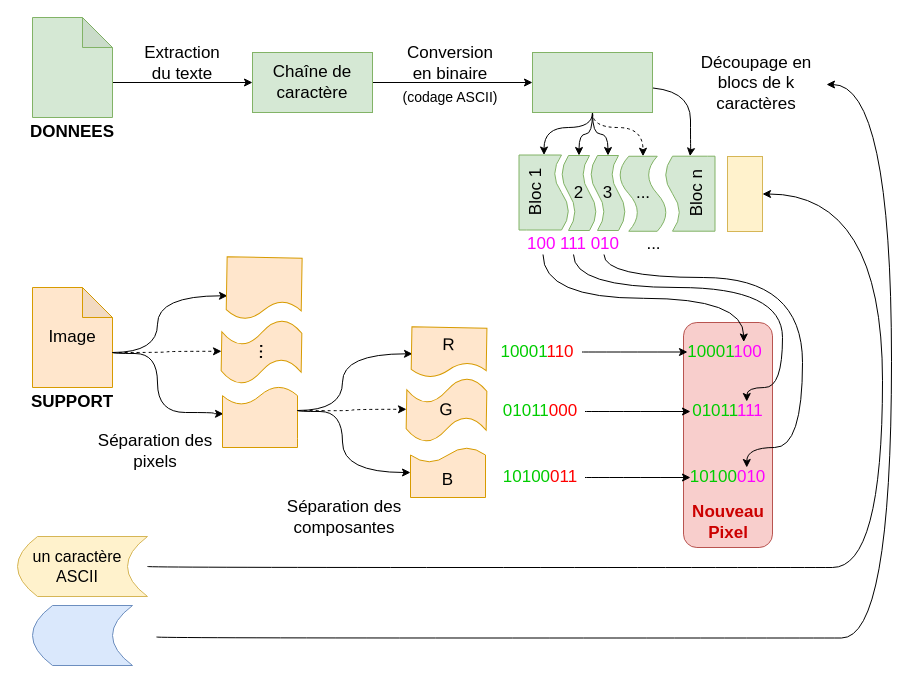
Image size: 909x683. Some labels were removed from this diagram. Each missing label, with the centre of its shape:
"caractère de fin" belongs at [744,194].
"Chaîne en binaire" belongs at [592,82].
"Fichier texte" belongs at [72,67].
"Pixel (0,0)" belongs at [263,288].
"Pixel (n,n)" belongs at [260,417].
"Un entier [|1;8|]" belongs at [82,635].
